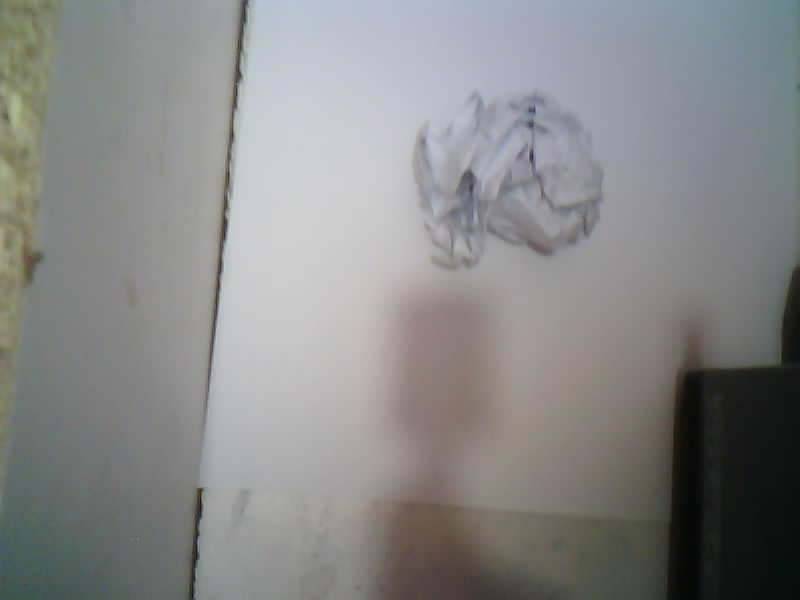biodegradable: (412, 91, 602, 267)
